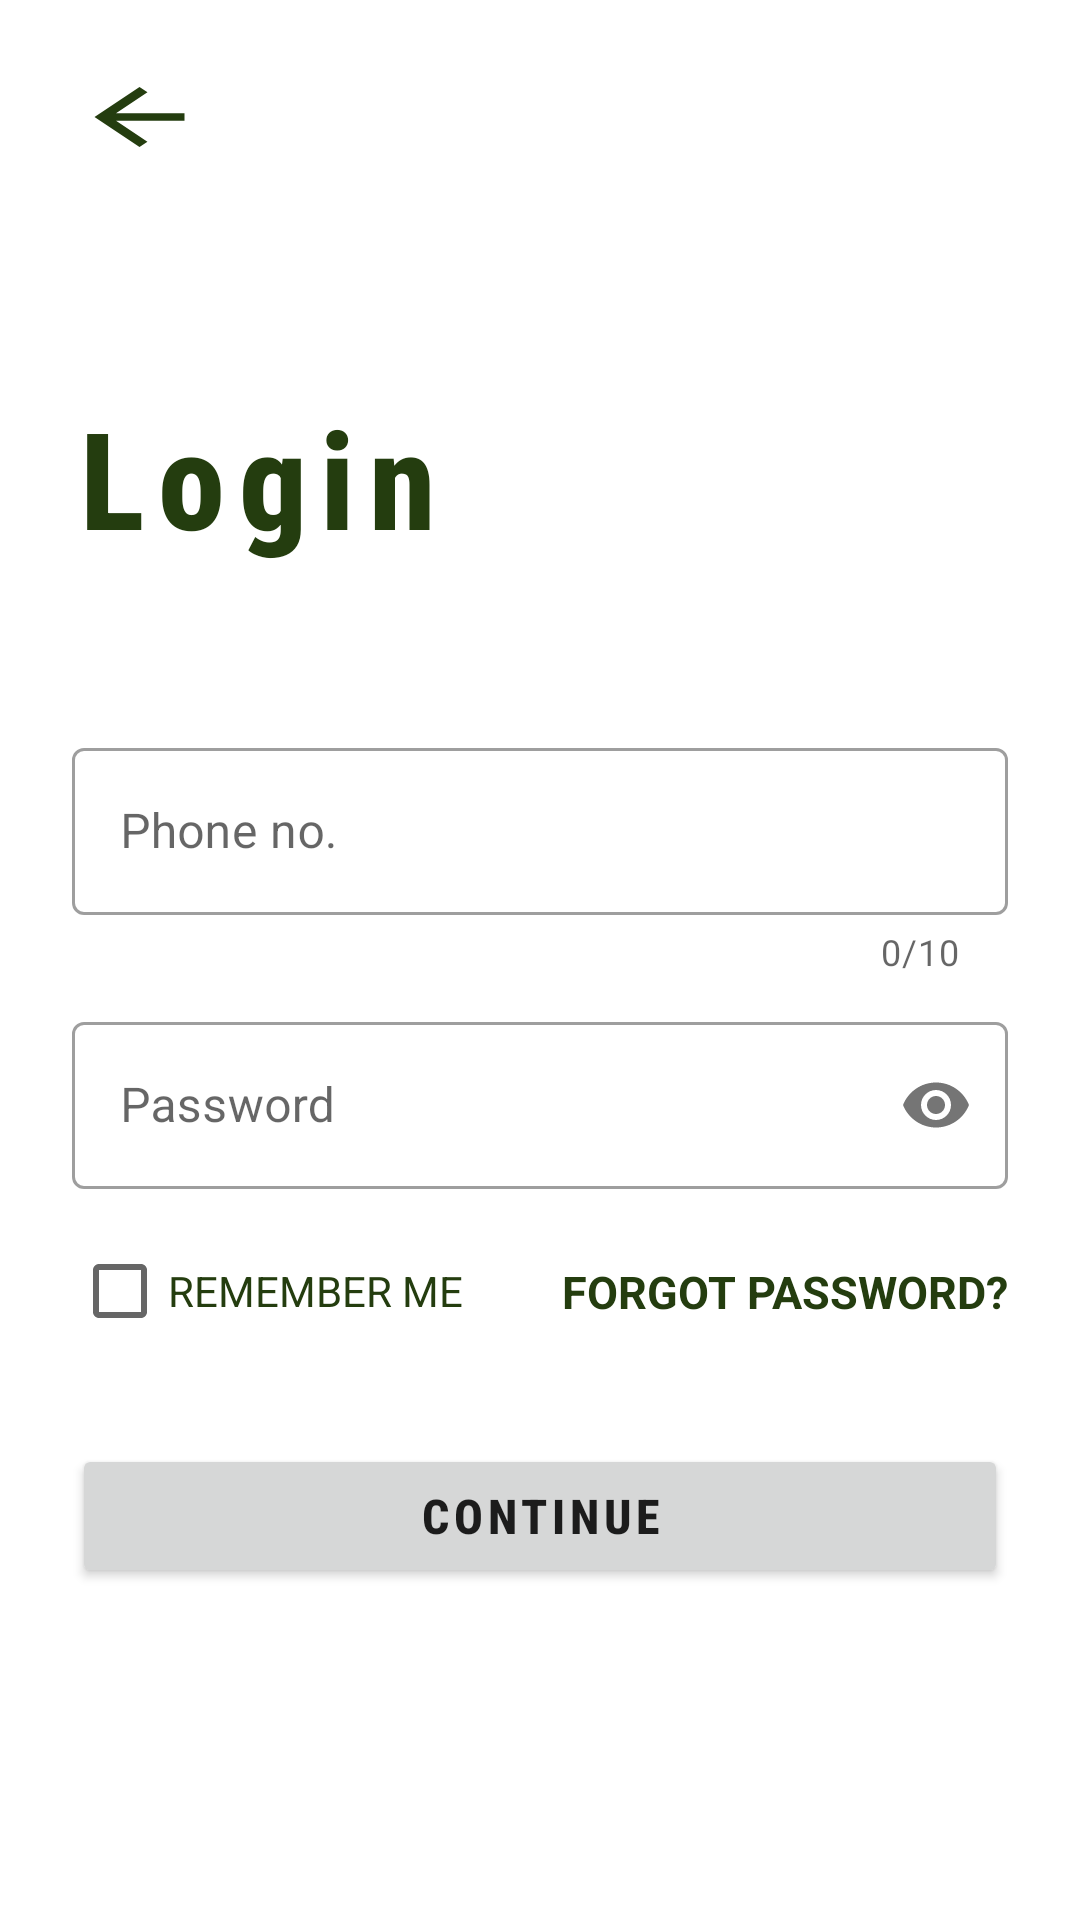

Named icons in this screenshot (1080px x 1920px) and their centers, point (x, y):
back arrow: point (140, 117)
